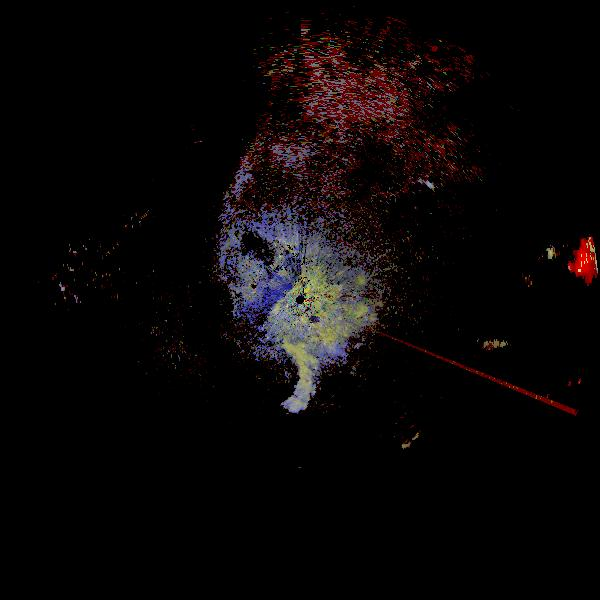roost: (238, 321, 349, 432), (388, 416, 484, 512)
